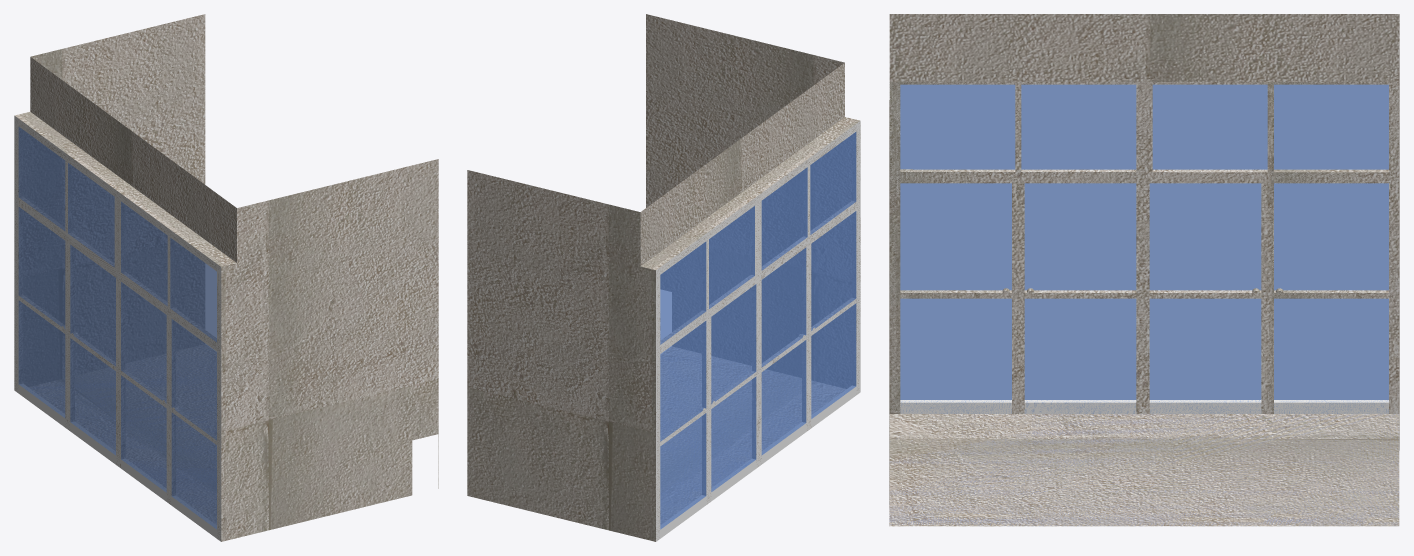
The model's file is COM001.obj.
3 renders of one model, left to right at view 1: azimuth 30°, elevation 25°; view 2: azimuth 150°, elevation 25°; view 3: azimuth 270°, elevation 25°, orthographic. The views are drawn at different scales.
Visible parts, largest first — view 1: Mesh7 COM001 Model, Mesh1 p16_1 COM001 Model; view 2: Mesh7 COM001 Model, Mesh1 p16_1 COM001 Model; view 3: Mesh1 p16_1 COM001 Model, Mesh7 COM001 Model.
Part boxes in pixels (left/top/right/bottom): Mesh7 COM001 Model: left=19, top=14, right=438, bottom=540; Mesh1 p16_1 COM001 Model: left=14, top=114, right=225, bottom=541; Mesh7 COM001 Model: left=467, top=14, right=855, bottom=540; Mesh1 p16_1 COM001 Model: left=651, top=119, right=860, bottom=541; Mesh1 p16_1 COM001 Model: left=889, top=81, right=1399, bottom=413; Mesh7 COM001 Model: left=889, top=14, right=1399, bottom=526.
Bounding box in the file's own units: 2.48 × 3.6 × 4.09.
Materials: 5 (1 with a texture image).
